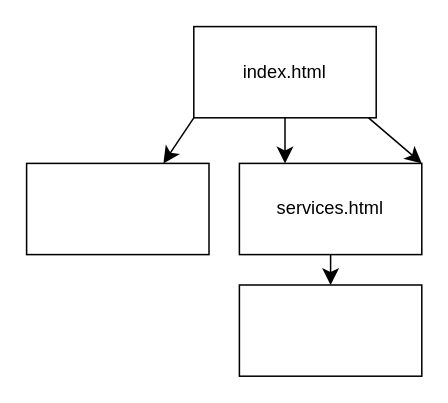
Some shapes in this 448 by 403 pixel diagram are drawn without their labels. Here are the shapes that lost their labels. From the top down, the box of each, then its label:
(25, 162, 209, 255): about.html
(238, 283, 422, 376): contact.html
